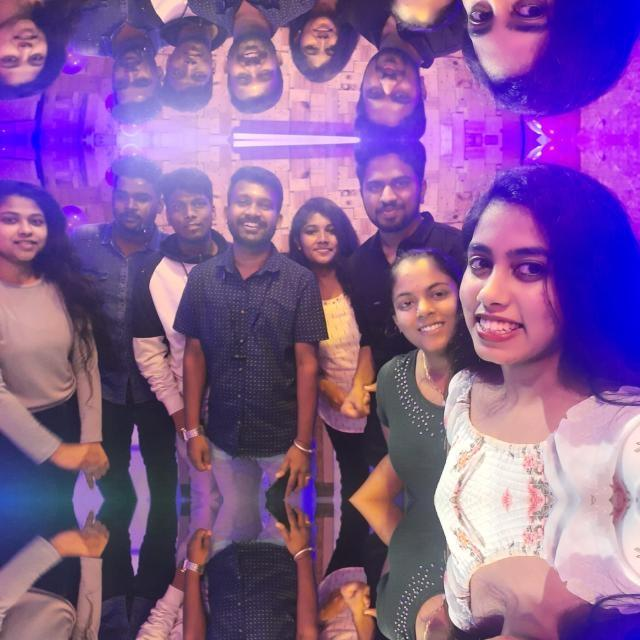person: (455, 170, 637, 492), (206, 158, 314, 446), (0, 174, 94, 476), (376, 236, 480, 474), (455, 507, 637, 640), (455, 0, 637, 110), (94, 144, 164, 406), (291, 190, 364, 378), (205, 0, 314, 121), (376, 526, 480, 640), (0, 523, 93, 640), (356, 143, 448, 257), (356, 23, 448, 137), (0, 0, 93, 106), (205, 554, 314, 640), (94, 0, 163, 135), (290, 0, 363, 90), (376, 0, 480, 44), (94, 594, 163, 640), (290, 621, 363, 640)
